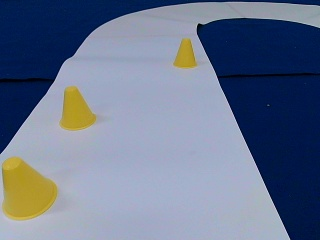cone: (1, 159, 57, 219), (58, 87, 97, 130), (173, 38, 196, 67)
